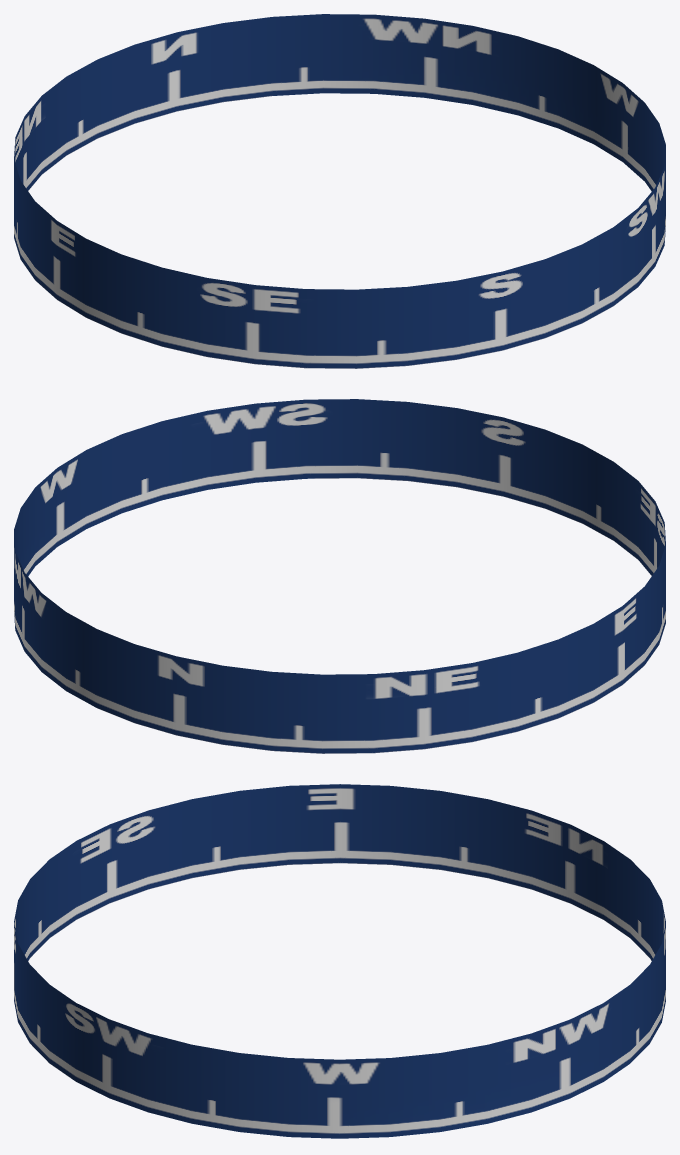
The model's file is compass.fbx.
3 renders of one model, top to bottom at view 1: azimuth 30°, elevation 25°; view 2: azimuth 150°, elevation 25°; view 3: azimuth 270°, elevation 25°, orthographic.
Visible parts, largest first — view 1: pCylinder1; view 2: pCylinder1; view 3: pCylinder1.
Boxes of the visible parts, <box> form: pCylinder1: <box>14,14,665,368</box>; pCylinder1: <box>14,399,665,753</box>; pCylinder1: <box>14,784,665,1138</box>.
Size of the model in its own units: 0.0198 by 0.00271 by 0.0198.
Materials: 1 (1 with a texture image).
